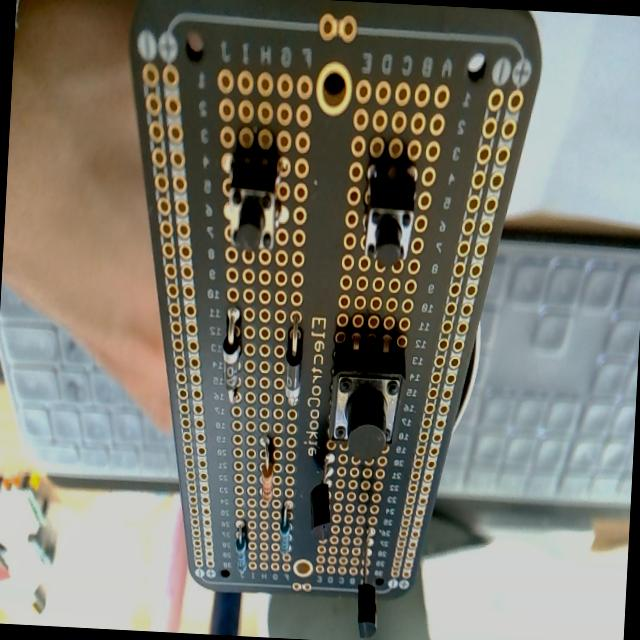diode: (220, 308, 244, 402), (284, 320, 304, 404)
resistor: (258, 437, 277, 508), (233, 525, 250, 577), (278, 502, 294, 552)
switch: (328, 331, 407, 456), (224, 151, 284, 258), (361, 162, 416, 270)
transistor: (354, 526, 383, 640), (306, 450, 336, 540)
